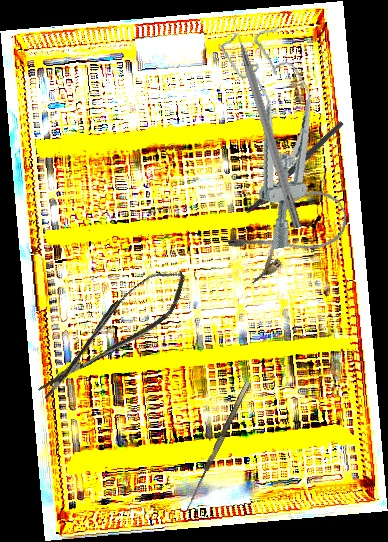Cannula: (224, 179, 356, 288)
Hook Surgical: (226, 10, 305, 230), (183, 381, 258, 515)
Micro Scissor: (25, 258, 198, 408)
Needle Holder: (243, 120, 357, 228)
Speculum: (218, 21, 336, 253)
